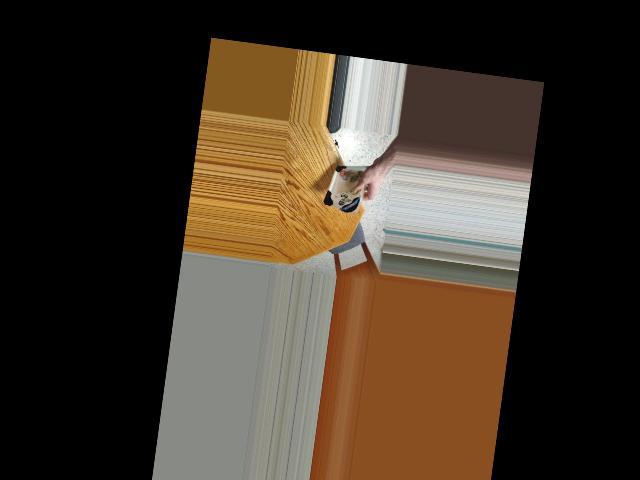cheese: (325, 153, 372, 217)
